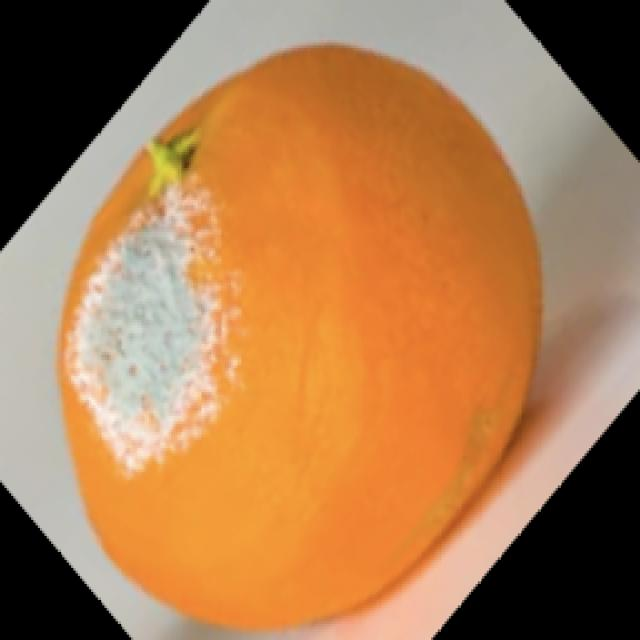sedikit_busuk: (53, 40, 544, 640)
